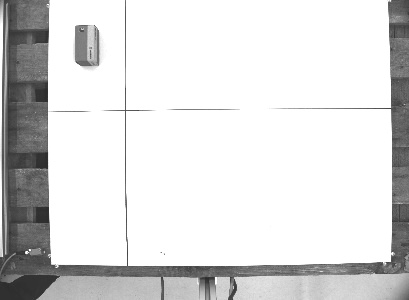b3: (72, 22, 101, 67)
